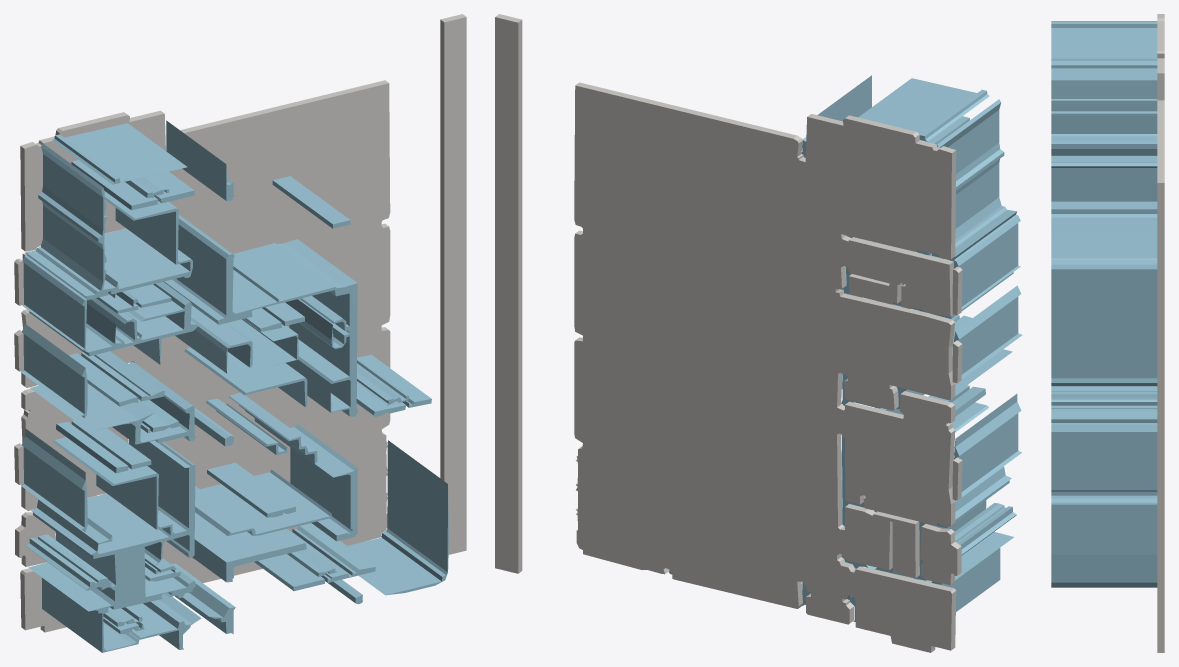
3 views of the same model, side by side, from view 1: azimuth 30°, elevation 25°; view 2: azimuth 150°, elevation 25°; view 3: azimuth 270°, elevation 25° (orthographic). The views are drawn at different scales.
Parts seen in each view (by area): view 1: world; view 2: world; view 3: world.
Part boxes in pixels (box(x1,y1,x2,y2)): world: box(14, 14, 466, 652); world: box(495, 14, 1022, 652); world: box(1051, 14, 1164, 652).
Size of the model in its own units: 9.43 by 10.72 by 2.34.
